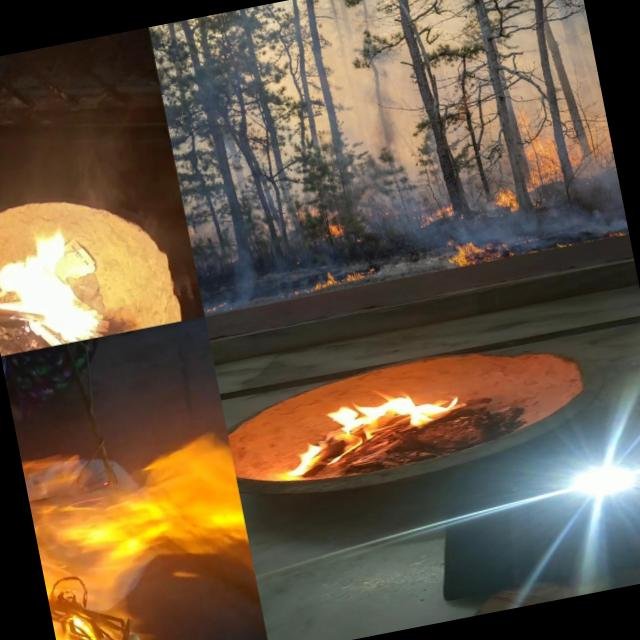fire: (40, 315, 271, 640), (278, 372, 478, 473), (0, 223, 111, 354), (515, 96, 563, 190), (286, 262, 376, 300), (444, 233, 489, 269), (415, 197, 459, 228), (491, 171, 524, 210), (324, 211, 354, 246), (554, 236, 580, 248), (605, 226, 629, 238)
smoke: (532, 2, 620, 196), (199, 82, 271, 244), (496, 187, 628, 249), (192, 236, 277, 316), (452, 166, 498, 237)
